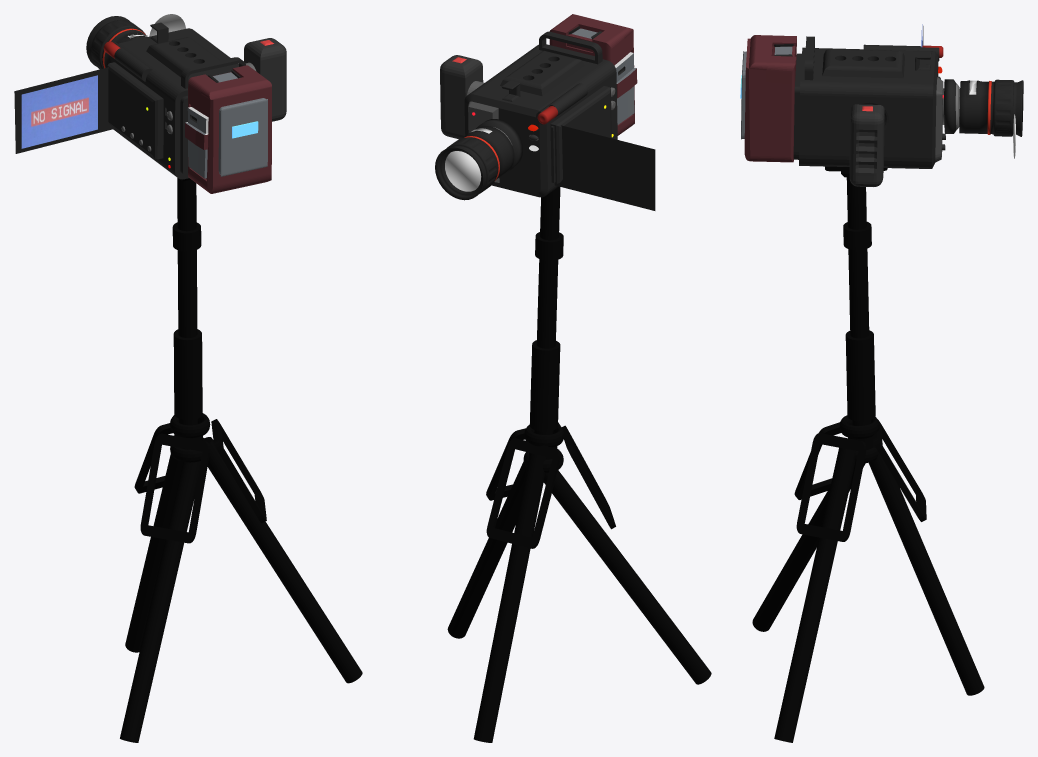
Rendered from video_tripod.glb.
3 renders of one model, left to right at view 1: azimuth 30°, elevation 25°; view 2: azimuth 150°, elevation 25°; view 3: azimuth 270°, elevation 25°, orthographic.
Visible parts, largest first — view 1: Cube.007_metalBlack.038_0.001, Cylinder.010_Material.052_0, Cube.006_Material.017_0.001, Cylinder.011_Material.053_0, screen, Cube.006_Material.010_0.001, Cylinder.012_Material.054_0, Cylinder.017_Material.057_0, Cube.008_Material.059_0, Cylinder.009_Material.051_0, Cube.004_Material.011_0.001, lens.002 (+6 smaller); view 2: Cube.007_metalBlack.038_0.001, lens.002, Cylinder.012_Material.054_0, Cylinder.010_Material.052_0, Cylinder.011_Material.053_0, Cylinder.039_Material.015_0.001, Cube.006_Material.017_0.001, Cylinder.017_Material.057_0, Cube.009_Material.057_0, Cylinder.009_Material.051_0, Cube.004_Material.011_0.001, lens.003 (+8 smaller); view 3: Cube.007_metalBlack.038_0.001, Cube.006_Material.017_0.001, Cylinder.011_Material.053_0, Cylinder.012_Material.054_0, Cylinder.039_Material.015_0.001, Cube.004_Material.011_0.001, Cylinder.017_Material.057_0, Cube.003_Material.058_0, Cylinder.010_Material.052_0, Cylinder.009_Material.051_0, Cube.009_Material.057_0, Cube.008_Material.059_0 (+5 smaller).
Part boxes in pixels (x1=…): Cube.007_metalBlack.038_0.001: x1=107, y1=28, x2=245, y2=179; Cylinder.010_Material.052_0: x1=120, y1=461, x2=200, y2=742; Cube.006_Material.017_0.001: x1=185, y1=65, x2=271, y2=193; Cylinder.011_Material.053_0: x1=203, y1=437, x2=362, y2=683; screen: x1=21, y1=75, x2=97, y2=148; Cube.006_Material.010_0.001: x1=185, y1=72, x2=267, y2=178; Cylinder.012_Material.054_0: x1=125, y1=454, x2=182, y2=652; Cylinder.017_Material.057_0: x1=177, y1=178, x2=197, y2=425; Cube.008_Material.059_0: x1=140, y1=433, x2=210, y2=543; Cylinder.009_Material.051_0: x1=173, y1=329, x2=202, y2=420; Cube.004_Material.011_0.001: x1=244, y1=38, x2=286, y2=121; lens.002: x1=14, y1=67, x2=114, y2=153; Cube.007_metalBlack.038_0.001: x1=464, y1=31, x2=617, y2=197; lens.002: x1=554, y1=125, x2=655, y2=210; Cylinder.012_Material.054_0: x1=473, y1=453, x2=545, y2=742; Cylinder.010_Material.052_0: x1=543, y1=470, x2=711, y2=684; Cylinder.011_Material.053_0: x1=447, y1=461, x2=526, y2=638; Cylinder.039_Material.015_0.001: x1=435, y1=126, x2=514, y2=200; Cube.006_Material.017_0.001: x1=549, y1=14, x2=637, y2=135; Cylinder.017_Material.057_0: x1=534, y1=186, x2=560, y2=434; Cube.009_Material.057_0: x1=486, y1=438, x2=560, y2=548; Cylinder.009_Material.051_0: x1=529, y1=340, x2=560, y2=431; Cube.004_Material.011_0.001: x1=440, y1=55, x2=483, y2=139; lens.003: x1=445, y1=151, x2=481, y2=191; Cube.007_metalBlack.038_0.001: x1=793, y1=36, x2=938, y2=168; Cube.006_Material.017_0.001: x1=744, y1=35, x2=796, y2=162; Cylinder.011_Material.053_0: x1=774, y1=447, x2=855, y2=742; Cylinder.012_Material.054_0: x1=868, y1=443, x2=984, y2=695; Cylinder.039_Material.015_0.001: x1=959, y1=79, x2=1023, y2=136; Cube.004_Material.011_0.001: x1=849, y1=104, x2=884, y2=186; Cylinder.017_Material.057_0: x1=846, y1=177, x2=871, y2=425; Cube.003_Material.058_0: x1=796, y1=433, x2=866, y2=541; Cylinder.010_Material.052_0: x1=752, y1=463, x2=865, y2=631; Cylinder.009_Material.051_0: x1=845, y1=330, x2=875, y2=421; Cube.009_Material.057_0: x1=872, y1=419, x2=926, y2=521; Cube.008_Material.059_0: x1=794, y1=422, x2=841, y2=499.
Size of the model in its own units: 0.9517 by 2.13 by 0.8485.
Materials: 50 (1 with a texture image).
